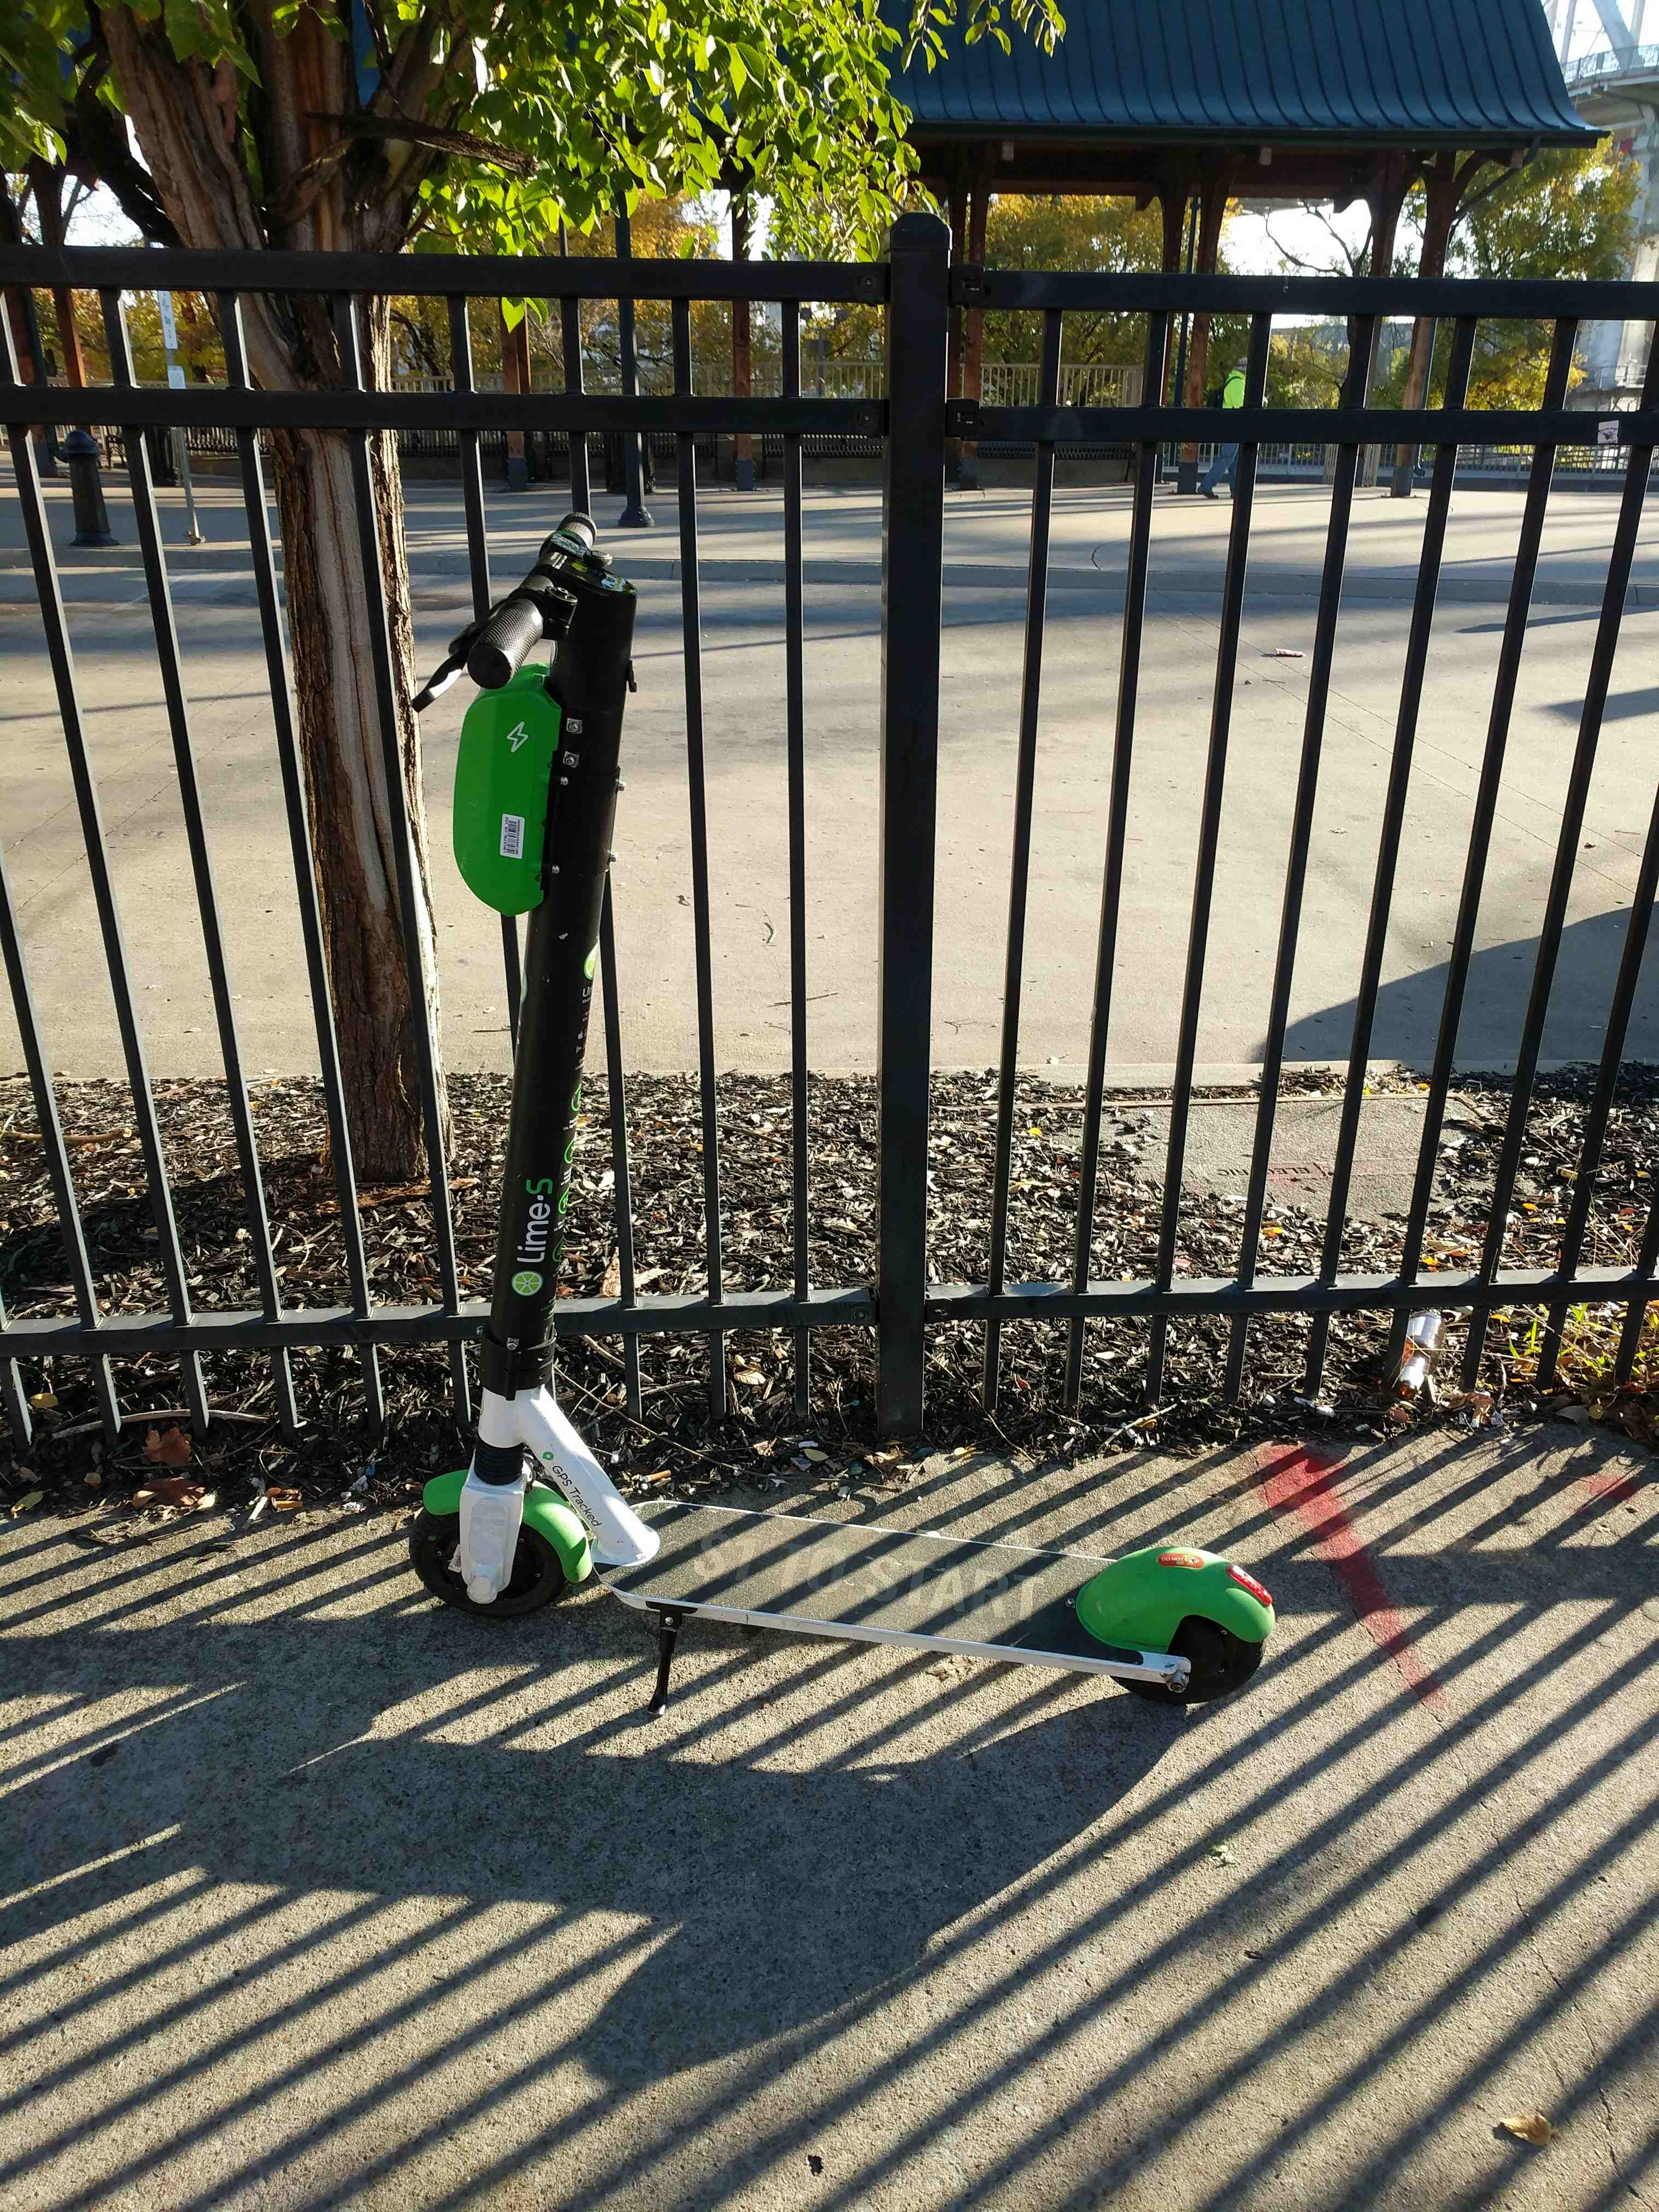scooter: (373, 488, 1283, 1740)
